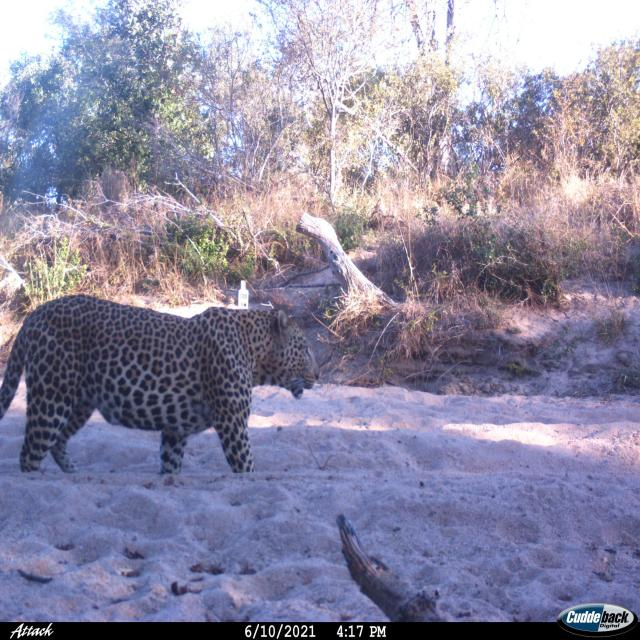Leopard: (0, 257, 327, 497)
